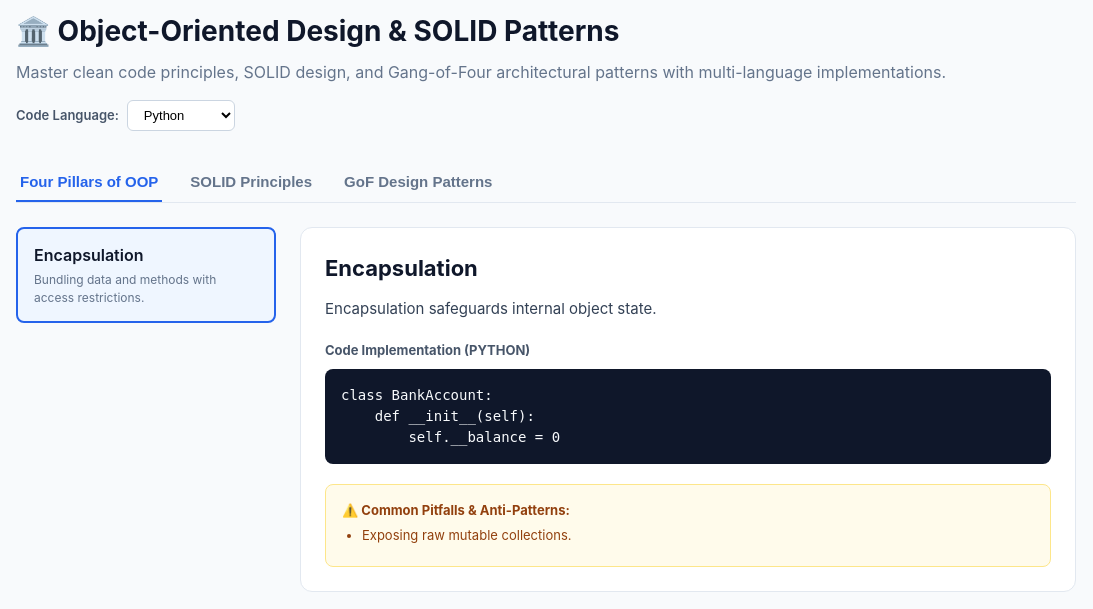
Test case: DSAapp Phase 8 Contests, Interview, CP, SQL & OOP UI › renders OopPage with Four Pillars, SOLID principles with code diffs, and GoF patterns
Expected: the text "Encapsulation" is shown, [34,245,144,265]
Expected: the text "Encapsulation safeguards internal object state." is shown, [325,299,656,318]
Check SOLID tab
Click the button "SOLID Principles". click: (251, 182)
box: [186,163,316,202]
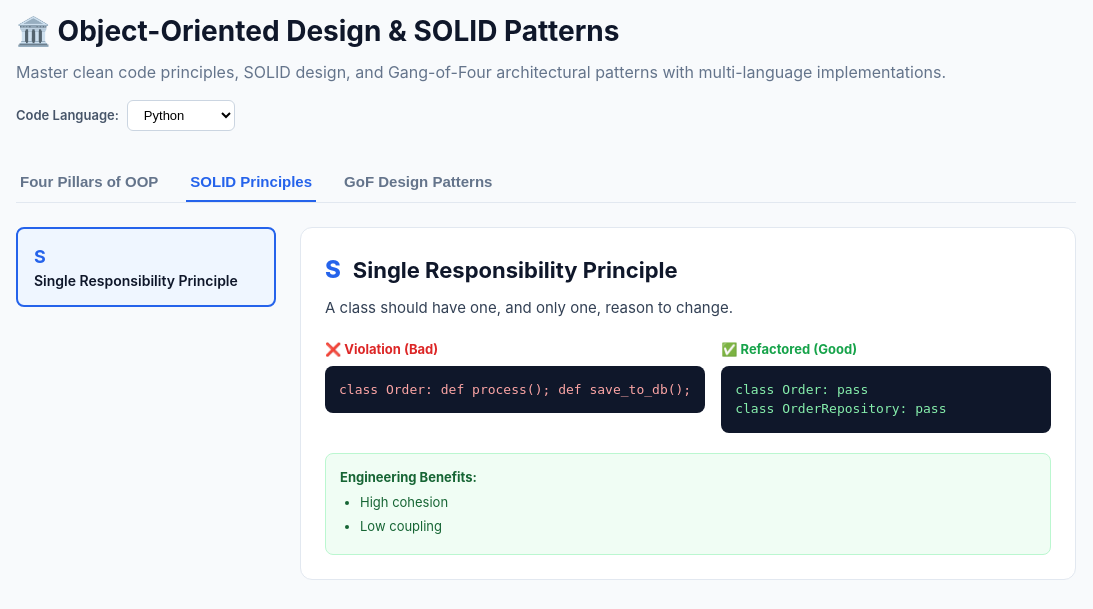
Expected: the text "Single Responsibility Principle" is shown, [34,270,258,291]
Expected: the text "❌ Violation (Bad)" is shown, [325,341,438,357]
Expected: the text "✅ Refactored (Good)" is shown, [721,341,857,357]
Check GoF Design Patterns tab
Click the button "GoF Design Patterns". click: (418, 182)
box: [340,163,496,202]
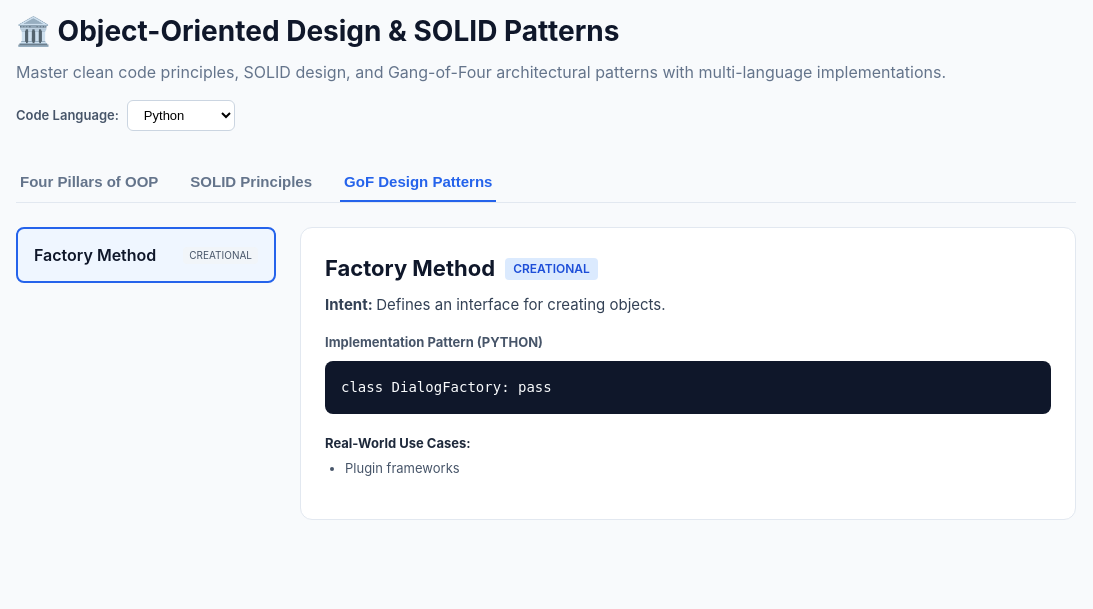
Expected: the text "Factory Method" is shown, [34,243,156,267]
Expected: the 1st text "CREATIONAL" is shown, [183,246,258,264]
